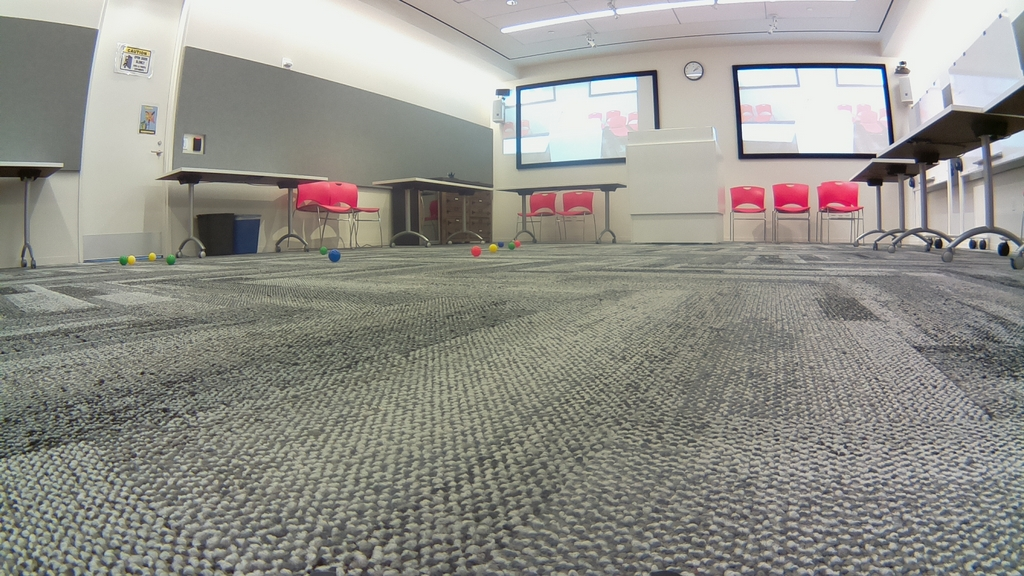ball: (167, 255, 176, 265)
